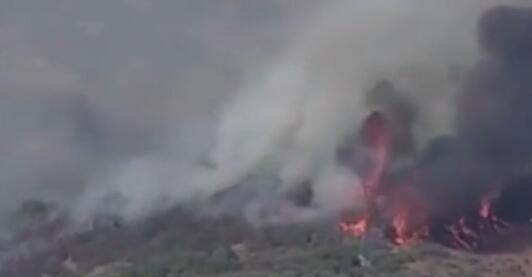fire: (334, 119, 427, 245), (439, 196, 503, 250)
yanwu: (10, 0, 464, 237)
